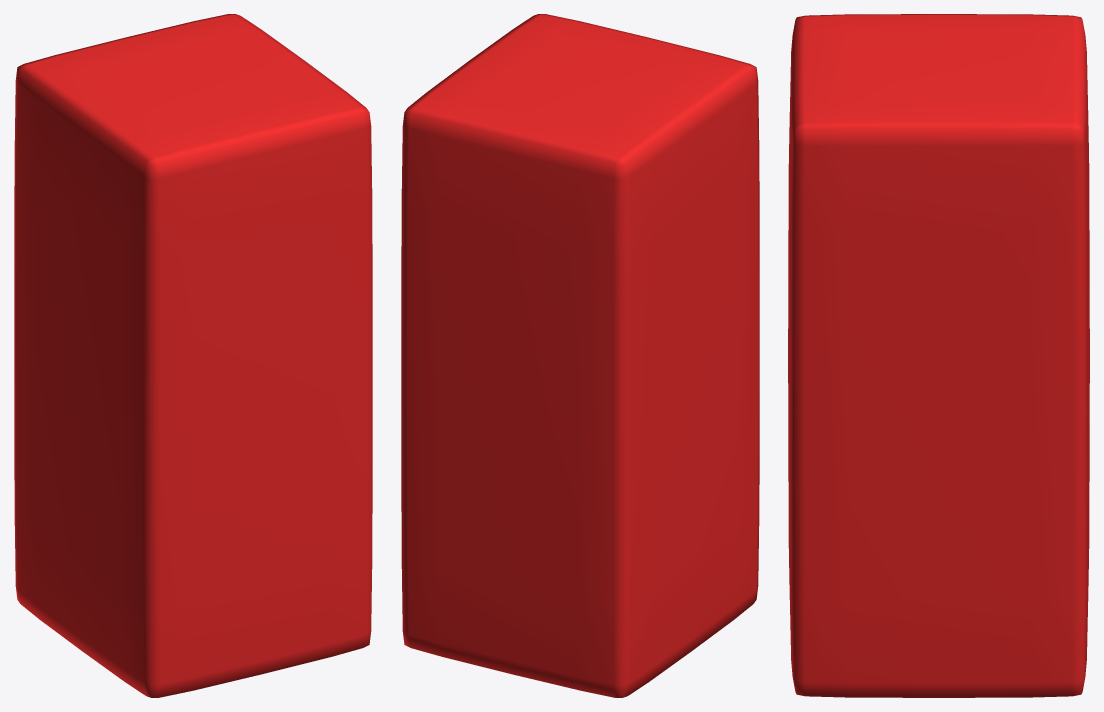
Rendered from brakecaliper_rr.glb.
3 views of the same model, side by side, from view 1: azimuth 30°, elevation 25°; view 2: azimuth 150°, elevation 25°; view 3: azimuth 270°, elevation 25° (orthographic). The views are drawn at different scales.
Parts seen in each view (by area): view 1: GEO_BrakeCaliper_RR; view 2: GEO_BrakeCaliper_RR; view 3: GEO_BrakeCaliper_RR.
Part boxes in pixels (x1,y1,x2,y2): GEO_BrakeCaliper_RR: (14, 14, 372, 697); GEO_BrakeCaliper_RR: (401, 14, 759, 697); GEO_BrakeCaliper_RR: (788, 14, 1089, 697).
Size of the model in its own units: 0.0798 by 0.1798 by 0.0848.
